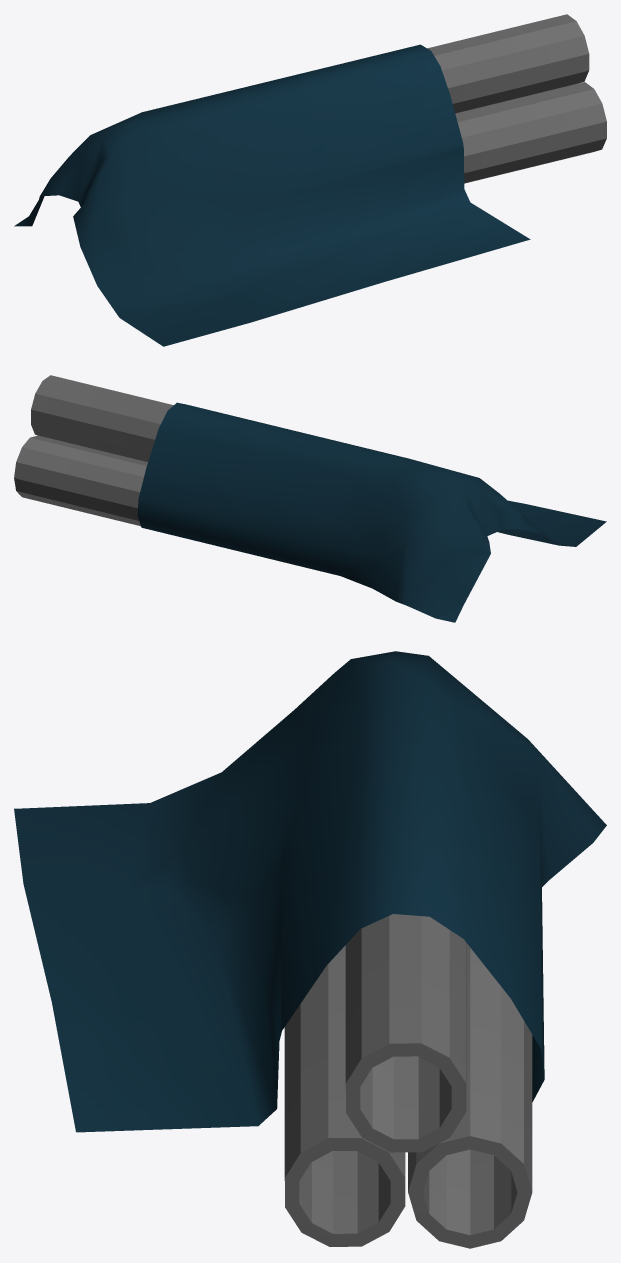
File: Pipes.fbx
The picture shows the model from 3 angles, top to bottom: view 1: azimuth 30°, elevation 25°; view 2: azimuth 150°, elevation 25°; view 3: azimuth 270°, elevation 25°; orthographic projection. The views are drawn at different scales.
Parts seen in each view (by area): view 1: Pipes; view 2: Pipes; view 3: Pipes.
Part boxes in pixels (bbox=[...]): Pipes: bbox=[14, 14, 606, 346]; Pipes: bbox=[14, 375, 606, 622]; Pipes: bbox=[14, 651, 606, 1248].
Size of the model in its own units: 550 by 123 by 311.
